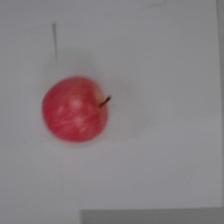red: (40, 73, 111, 144)
